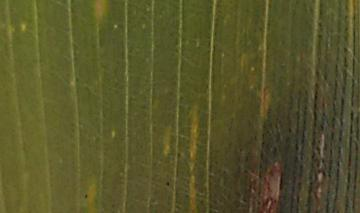tarspot: (164, 179, 171, 188), (83, 192, 89, 199)
